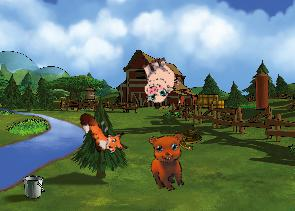bear: (141, 127, 198, 195)
fox: (76, 101, 131, 163)
pig: (132, 53, 183, 106)
